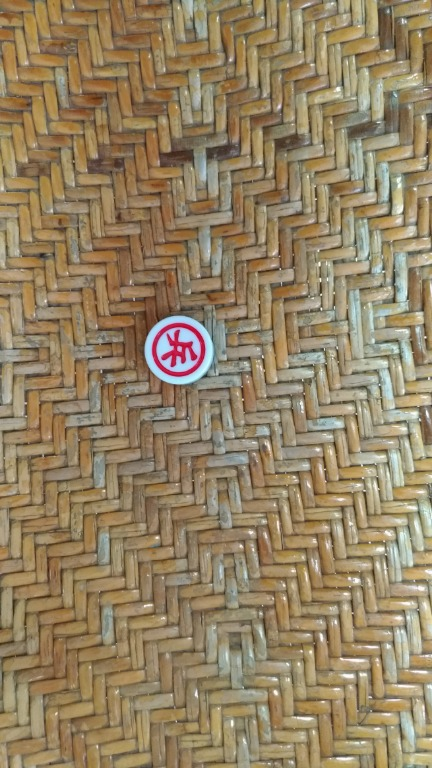r-pawn: (143, 313, 224, 398)
